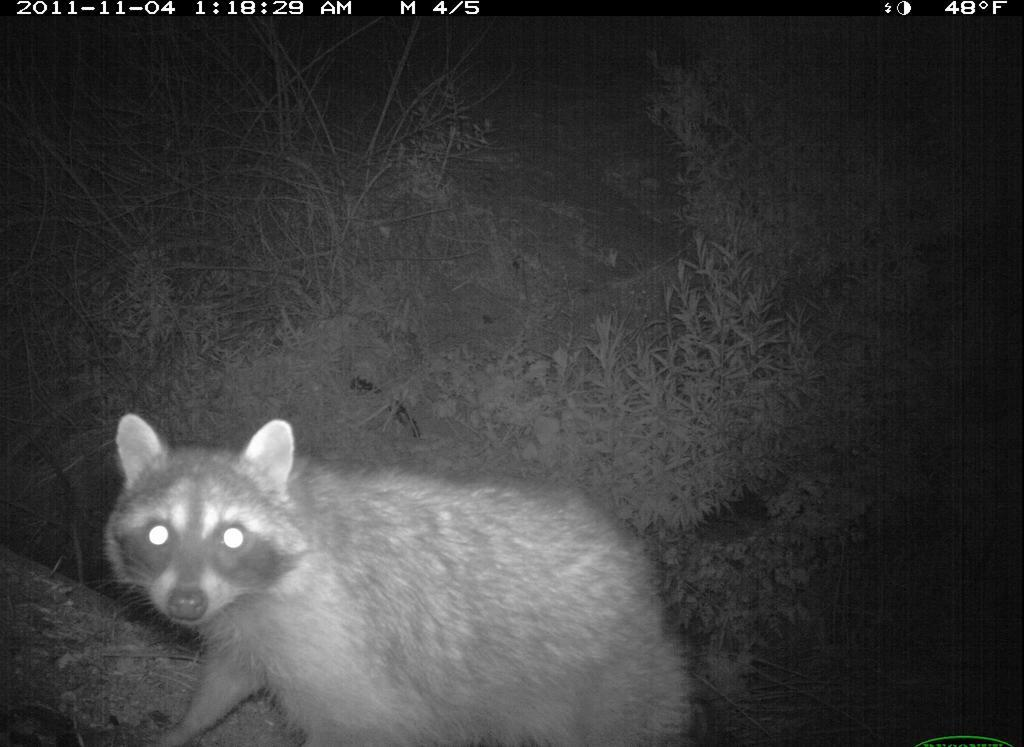raccoon: (93, 405, 711, 747)
